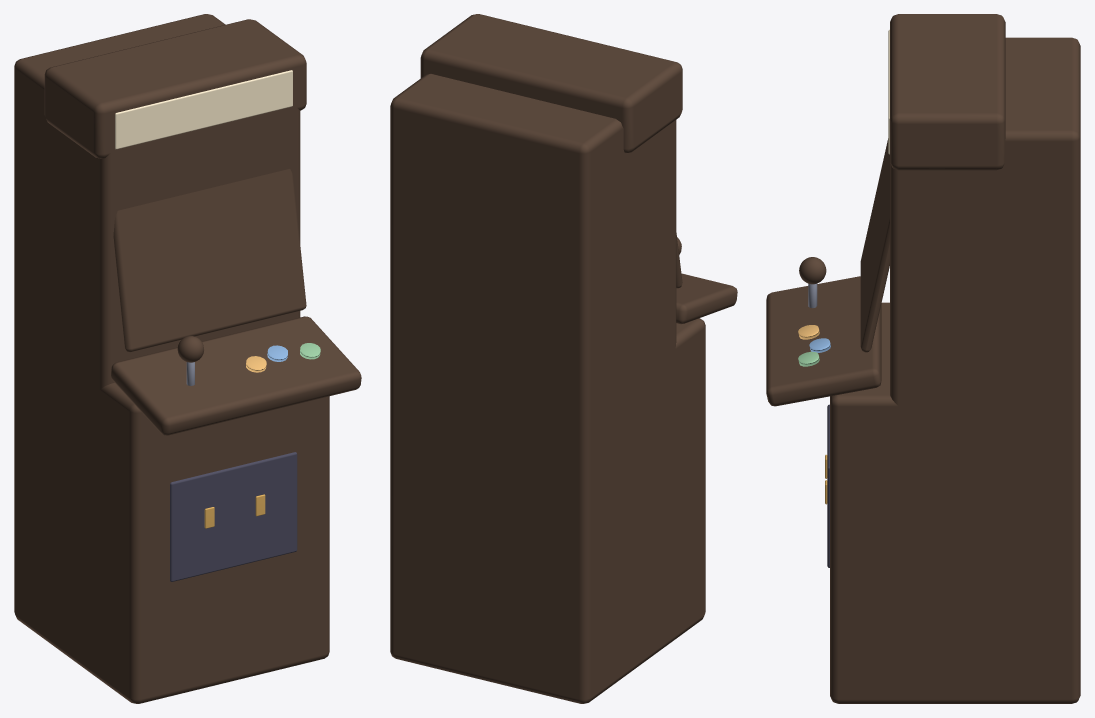
The model's file is arcade.glb.
3 renders of one model, left to right at view 1: azimuth 30°, elevation 25°; view 2: azimuth 150°, elevation 25°; view 3: azimuth 270°, elevation 25°, orthographic. The views are drawn at different scales.
Parts seen in each view (by area): view 1: arcade; view 2: arcade; view 3: arcade.
Boxes of the visible parts, box(x1,y1,x2,y2) form: arcade: box(14, 14, 361, 703); arcade: box(390, 14, 737, 703); arcade: box(766, 14, 1080, 703).
Bounding box in the file's own units: 0.6687 × 1.75 × 0.838.
